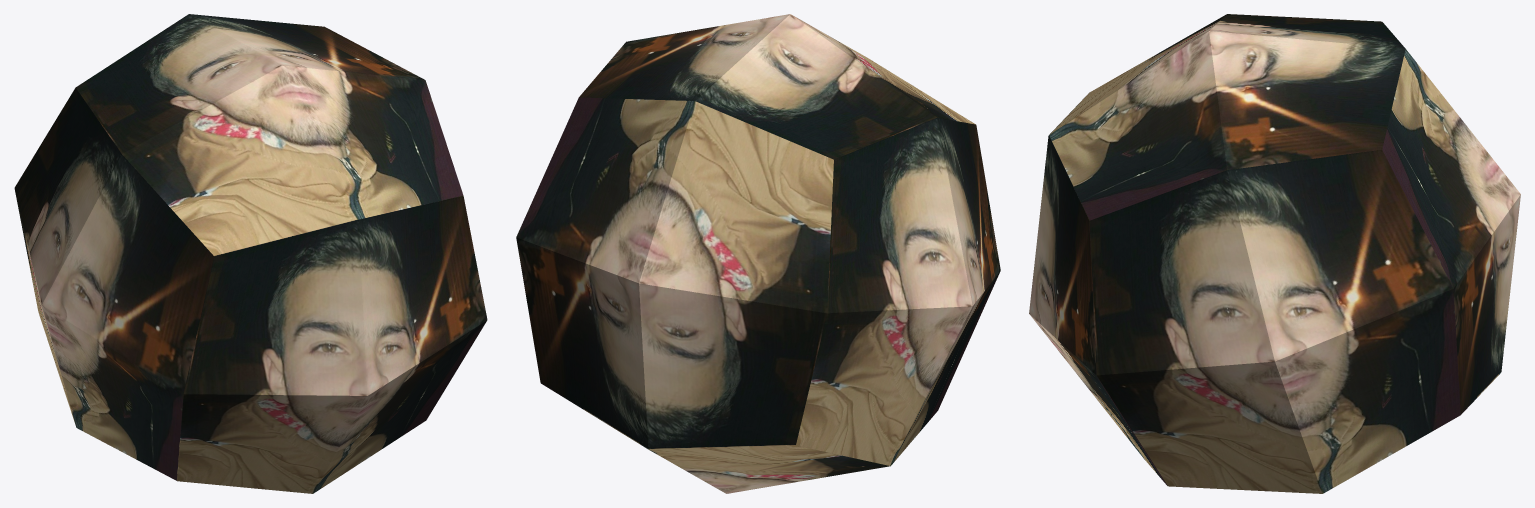
File: round.glb
3 renders of one model, left to right at view 1: azimuth 30°, elevation 25°; view 2: azimuth 150°, elevation 25°; view 3: azimuth 270°, elevation 25°, orthographic. The views are drawn at different scales.
Visible parts, largest first — view 1: Cube; view 2: Cube; view 3: Cube.
Part boxes in pixels (box(x1,y1,x2,y2)): Cube: box(14, 14, 487, 493); Cube: box(516, 14, 1000, 493); Cube: box(1029, 14, 1520, 493).
Size of the model in its own units: 1.68 by 1.62 by 1.62.
1 material, 1 textured.
